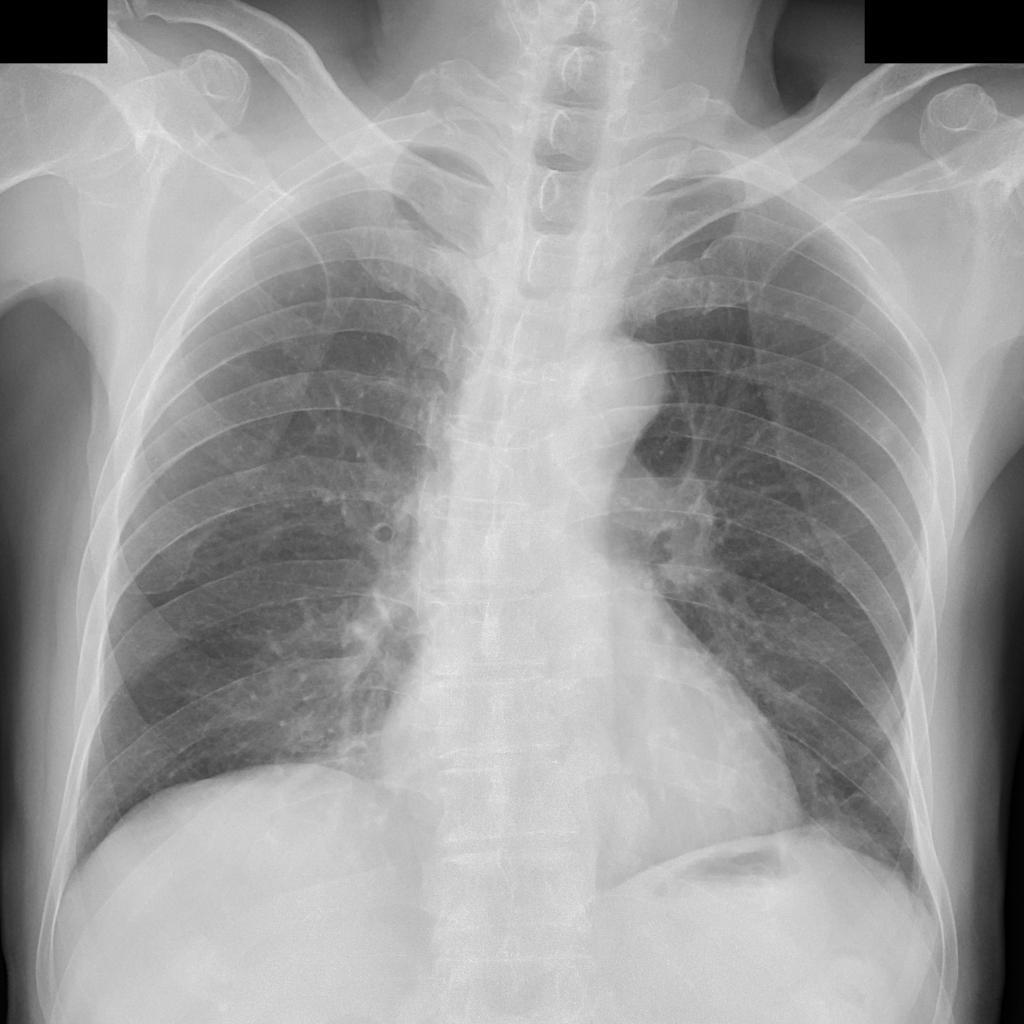Nodule: (878, 427, 895, 447)
